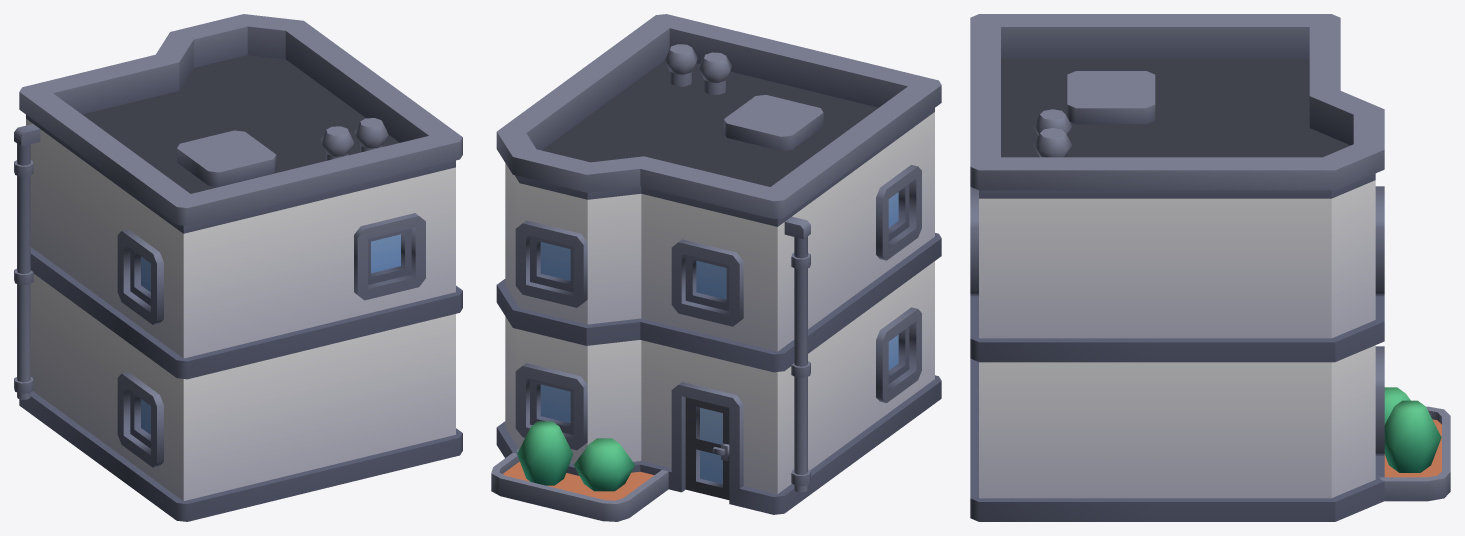
Rendered from building-c.glb.
3 views of the same model, side by side, from view 1: azimuth 30°, elevation 25°; view 2: azimuth 150°, elevation 25°; view 3: azimuth 270°, elevation 25° (orthographic). The views are drawn at different scales.
Parts seen in each view (by area): view 1: building-c; view 2: building-c; view 3: building-c.
Part boxes in pixels (<box>): building-c: <box>14,14,462,521</box>; building-c: <box>491,14,941,521</box>; building-c: <box>970,14,1450,521</box>.
Size of the model in its own units: 0.8836 by 0.8931 by 1.09.
Materials: 1 (1 with a texture image).
